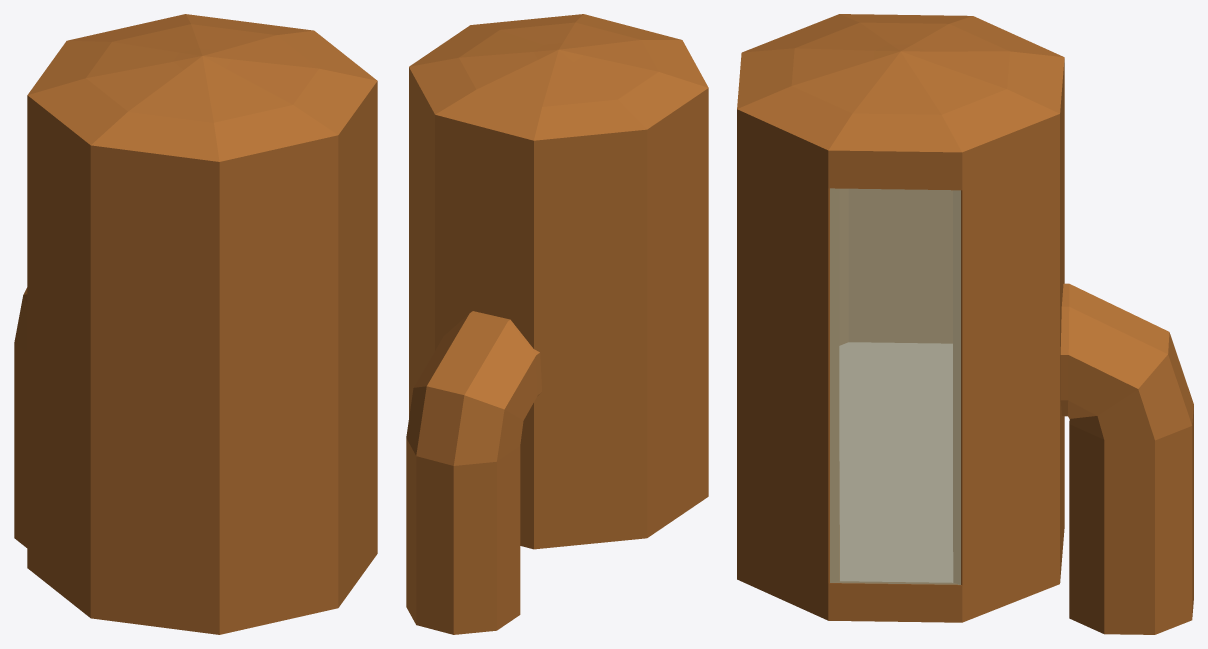
Rendered from VAT30.glb.
The picture shows the model from 3 angles, left to right: view 1: azimuth 30°, elevation 25°; view 2: azimuth 150°, elevation 25°; view 3: azimuth 270°, elevation 25°; orthographic projection. The views are drawn at different scales.
Visible parts, largest first — view 1: Cylinder, Cylinder.001; view 2: Cylinder, Cylinder.001; view 3: Cylinder, glass, Cylinder.001, liquidHeight.
Part boxes in pixels (<box>): Cylinder: <box>27,14,377,634</box>; Cylinder.001: <box>14,287,27,547</box>; Cylinder: <box>409,14,708,549</box>; Cylinder.001: <box>406,311,541,634</box>; Cylinder: <box>737,14,1064,622</box>; glass: <box>830,188,960,584</box>; Cylinder.001: <box>1060,283,1193,634</box>; liquidHeight: <box>840,343,952,582</box>.
Size of the model in its own units: 1.82 by 3.44 by 2.54.
